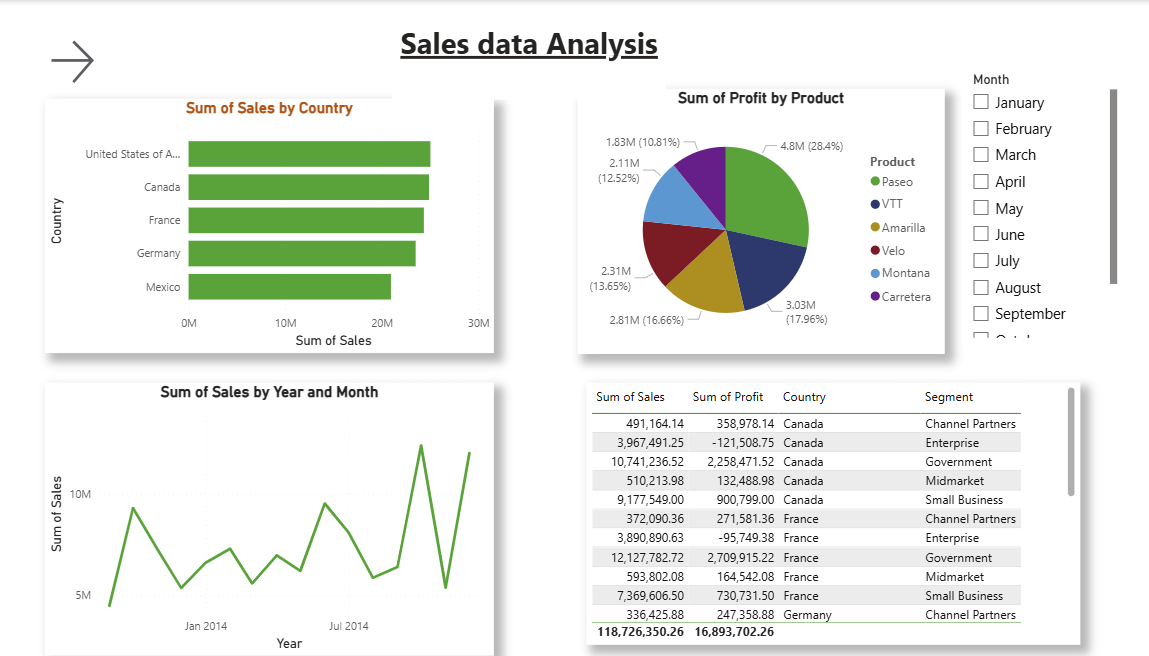

The page's visual inventory and layout, read from the dashboard file:
{"tool":"powerbi","page":{"name":"Page 1","canvas":[1280,720],"ordinal":0},"visuals":[{"type":"clusteredBarChart","fields":{"Category":["Table_1.Country"],"Y":["Sum(Table_1. Sales)"]},"box":[55,109,493,279],"z":0},{"type":"lineChart","fields":{"Y":["Sum(Table_1. Sales)"],"Category":["Table_1.Date.Variation.Date Hierarchy.Year","Table_1.Date.Variation.Date Hierarchy.Month"]},"box":[55,420,493,300],"z":1000},{"type":"pieChart","fields":{"Category":["Table_1.Product"],"Y":["Sum(Table_1.Profit)"]},"box":[640,97,403,291],"z":2000},{"type":"tableEx","fields":{"Values":["Sum(Table_1. Sales)","Sum(Table_1.Profit)","Table_1.Country","Table_1.Segment"]},"box":[649,420,542,288],"z":3000},{"type":"slicer","fields":{"Values":["Table_1.Date.Variation.Date Hierarchy.Month"]},"box":[1061,74,176,302],"z":4000},{"type":"textbox","box":[437,20,300,89],"z":5000},{"type":"actionButton","box":[55,38,93,59],"z":6000}]}

Visuals, with their boxes in screenshot pixels (x1, y1, x2, y2), scaled from the page's 1280x720 canvas onto the 1149x656 screenshot:
clusteredBarChart - Table_1.Country x Sum(Table_1. Sales): detection(49, 99, 492, 354)
lineChart - Sum(Table_1. Sales) x Table_1.Date.Variation.Date Hierarchy.Year: detection(49, 383, 492, 655)
pieChart - Table_1.Product x Sum(Table_1.Profit): detection(574, 88, 936, 354)
tableEx - Sum(Table_1. Sales) x Sum(Table_1.Profit): detection(583, 383, 1069, 645)
slicer - Table_1.Date.Variation.Date Hierarchy.Month: detection(952, 67, 1110, 343)
textbox: detection(392, 18, 662, 99)
actionButton: detection(49, 35, 133, 88)
